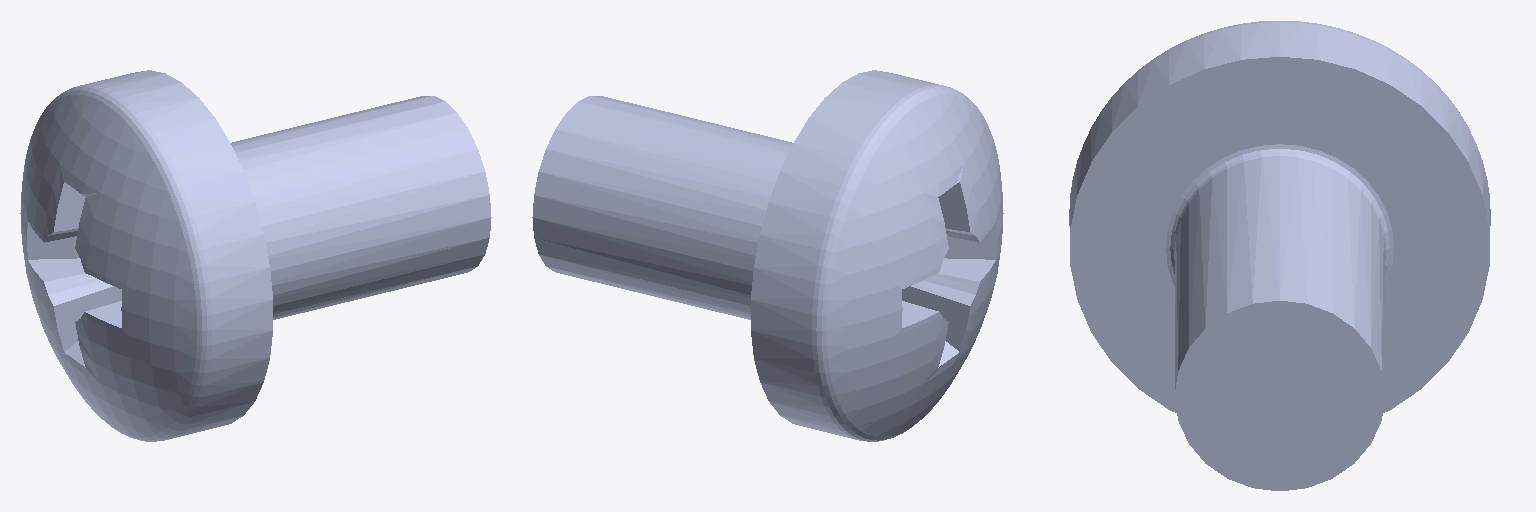
robot.urdf — 122925.SLDPRT:
<?xml version="1.0" encoding="utf-8"?>
<!-- This URDF was automatically created by SolidWorks to URDF Exporter! Originally created by [author] ([email redacted]) 
     Commit Version: 1.5.1-0-g916b5db  Build Version: 1.5.7152.31018
     For more information, please see http://wiki.ros.org/sw_urdf_exporter -->
<robot
  name="122925.SLDPRT">
  <link
    name="122925.SLDPRT">
    <inertial>
      <origin
        xyz="0.00578 -2.3764E-19 6.3758E-19"
        rpy="0 0 0" />
      <mass
        value="0.00065266" />
      <inertia
        ixx="7.8857E-09"
        ixy="1.1443E-19"
        ixz="-1.1443E-19"
        iyy="1.4006E-08"
        iyz="-7.19799999999999E-14"
        izz="1.4007E-08" />
    </inertial>
    <visual>
      <origin
        xyz="0 0 0"
        rpy="0 0 0" />
      <geometry>
        <mesh
          filename="package://object_description/chair_meshes/122925.SLDPRT.STL" />
      </geometry>
      <material
        name="">
        <color
          rgba="0.79216 0.81961 0.93333 1" />
        <texture
          filename="package://object_description/textures/" />
      </material>
    </visual>
    <collision>
      <origin
        xyz="0 0 0"
        rpy="0 -0 0" />
      <geometry>
        <mesh
          filename="package://object_description/chair_meshes/122925.SLDPRT.STL" />
      </geometry>
    </collision>
  </link>
	<gazebo reference="122925.SLDPRT">
    <material>Gazebo/Grey</material>
    <kp>100000.0</kp>
    <kd>1.0</kd>
    <mu1>100000</mu1>
    <mu2>100000</mu2>
    <maxVel>0</maxVel>
    <minDepth>0.000</minDepth>
  </gazebo>
</robot>

--- What the picture shows (computed from the rendered views, not written in the file) ---
The picture shows the robot from 3 angles, left to right: view 1: azimuth 30°, elevation 25°; view 2: azimuth 150°, elevation 25°; view 3: azimuth 270°, elevation 25°; orthographic projection.
Model 122925.SLDPRT with 1 links and 0 joints (none), rooted at 122925.SLDPRT, posed all joints at 0.
Links seen in each view (by area): view 1: 122925.SLDPRT; view 2: 122925.SLDPRT; view 3: 122925.SLDPRT.
Boxes of the visible links, left/top/right/bottom form: 122925.SLDPRT: left=20, top=70, right=491, bottom=441; 122925.SLDPRT: left=532, top=70, right=1003, bottom=441; 122925.SLDPRT: left=1069, top=21, right=1490, bottom=490.
Size in the robot's own frame: 0.0145 by 0.012 by 0.012 metres.
Meshes: 1 distinct files referenced, 1 mesh visuals loaded (1 binary STL).